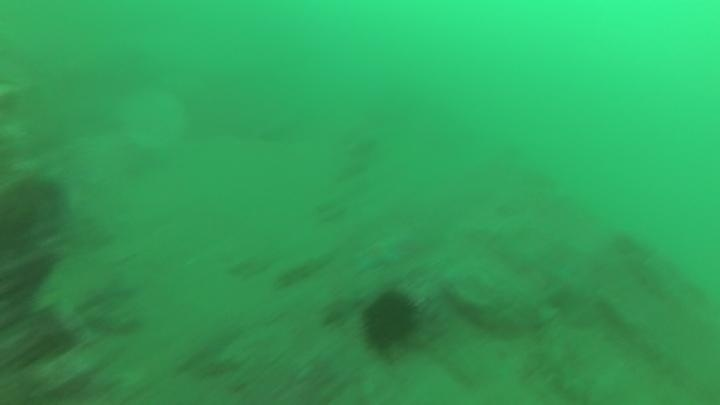echinus: (357, 286, 425, 356)
holothurian: (273, 250, 334, 291)
starfish: (352, 233, 406, 274), (317, 290, 364, 331)
